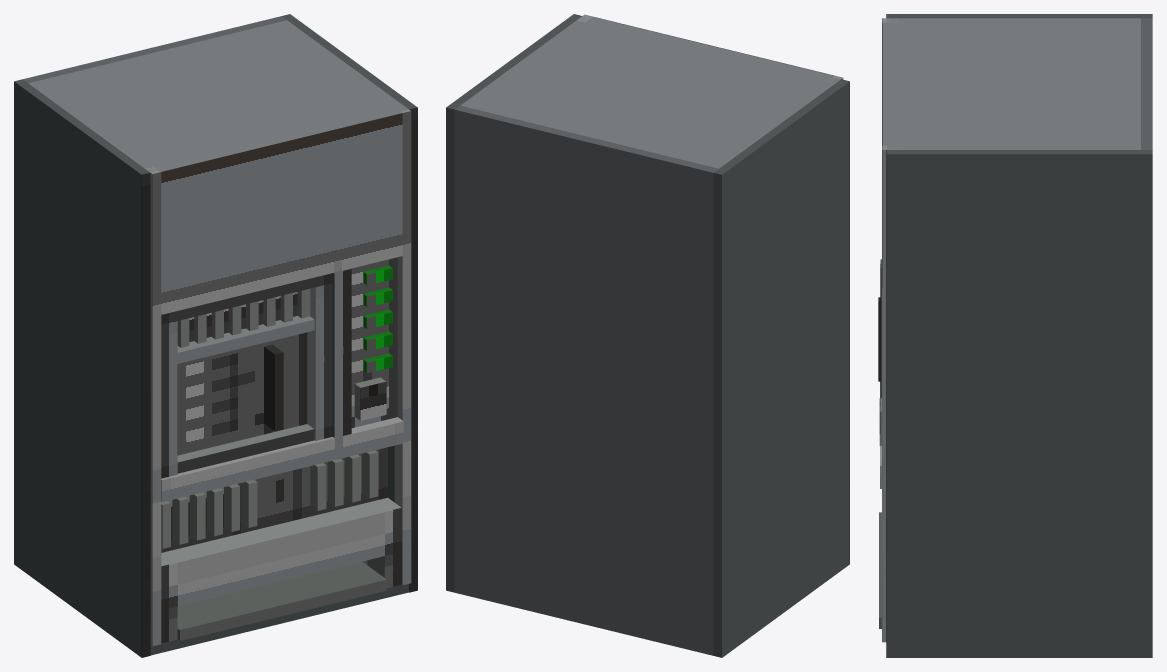
The model's file is CMU3DVendorNutriCoCloud.glb.
3 renders of one model, left to right at view 1: azimuth 30°, elevation 25°; view 2: azimuth 150°, elevation 25°; view 3: azimuth 270°, elevation 25°, orthographic. The views are drawn at different scales.
Parts seen in each view (by area): view 1: left full-depth cabinet side, large upper blank metal sign original face, roof, lower service cover original face, recessed oven-style meal compartment original face, mid cabinet shelf original face, lower ventilation recess original face, lower tray bottom lip, left full-depth cabinet side original face, left silver outer frame original face, right silver outer frame original face, control bank backing original face (+32 smaller); view 2: rear shell, left full-depth cabinet side, roof, right full-depth cabinet side, large upper blank metal sign; view 3: right full-depth cabinet side, roof, right silver outer frame, rear shell, left full-depth cabinet side, large upper blank metal sign, right full-depth cabinet side original face, right silver outer frame original face.
Boxes of the visible parts, x1=… form: left full-depth cabinet side: x1=14, y1=79, x2=149, y2=657; large upper blank metal sign original face: x1=161, y1=113, x2=402, y2=314; roof: x1=28, y1=20, x2=408, y2=172; lower service cover original face: x1=161, y1=508, x2=401, y2=610; recessed oven-style meal compartment original face: x1=177, y1=332, x2=307, y2=455; mid cabinet shelf original face: x1=162, y1=421, x2=403, y2=502; lower ventilation recess original face: x1=161, y1=447, x2=387, y2=552; lower tray bottom lip: x1=177, y1=561, x2=386, y2=640; left full-depth cabinet side original face: x1=141, y1=172, x2=150, y2=657; left silver outer frame original face: x1=152, y1=172, x2=161, y2=646; right silver outer frame original face: x1=402, y1=111, x2=411, y2=585; control bank backing original face: x1=351, y1=257, x2=397, y2=427; rear shell: x1=454, y1=105, x2=718, y2=655; left full-depth cabinet side: x1=713, y1=79, x2=849, y2=657; roof: x1=460, y1=16, x2=840, y2=168; right full-depth cabinet side: x1=446, y1=14, x2=581, y2=592; large upper blank metal sign: x1=579, y1=17, x2=833, y2=85; right full-depth cabinet side: x1=887, y1=150, x2=1152, y2=657; roof: x1=887, y1=18, x2=1140, y2=149; right silver outer frame: x1=882, y1=145, x2=896, y2=642; rear shell: x1=1141, y1=18, x2=1152, y2=149; left full-depth cabinet side: x1=887, y1=14, x2=1152, y2=18; large upper blank metal sign: x1=882, y1=22, x2=911, y2=145; right full-depth cabinet side original face: x1=886, y1=150, x2=886, y2=657; right silver outer frame original face: x1=882, y1=145, x2=882, y2=642.
Size of the model in its own units: 1 by 1.67 by 0.826.
Materials: 46 (23 with a texture image).
